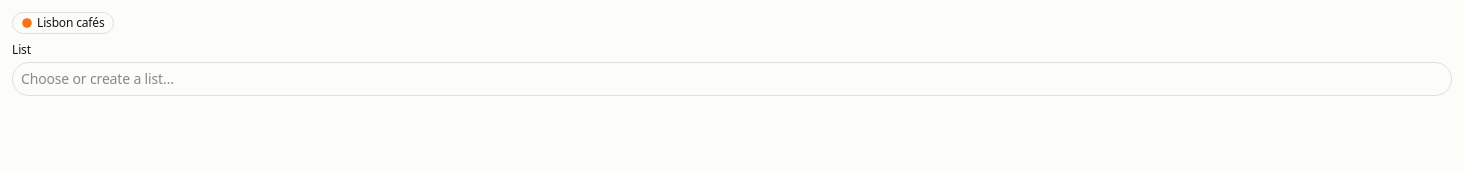
it: memberships and the one-control combobox › shows member lists as chips and excludes them from the popup
Expected: the list with test id "current-list-memberships" reads "Lisbon cafés", [37,14,104,31]
# Focus opens the popup on the remaining lists — no select, no second box.
Click the dropdown with test id "add-list-choice".
click(732, 79)  # box [12,62,1452,96]
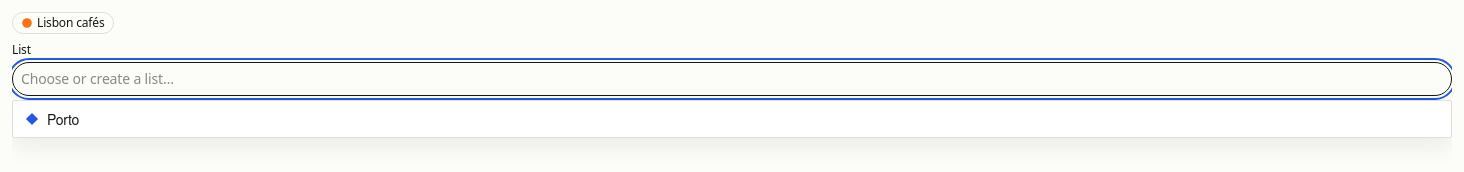
Expected: the option with test id "add-option-list-2" is shown, [13,101,1451,137]
